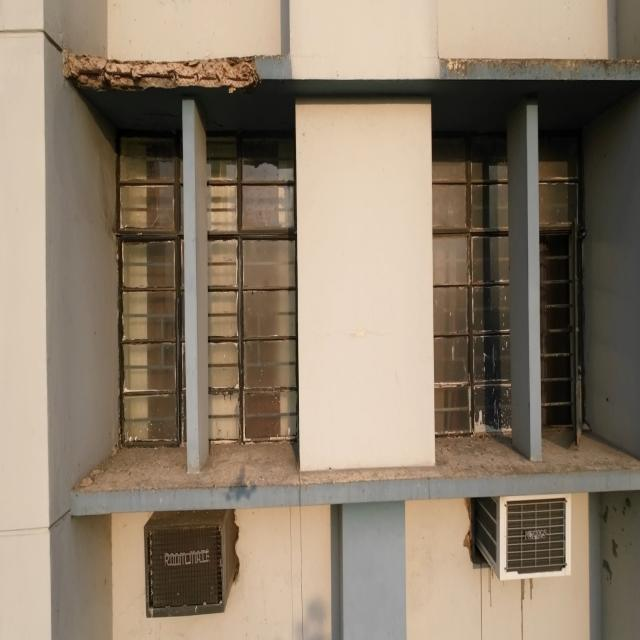peeling: (441, 41, 640, 91)
spalling: (62, 43, 265, 100)
